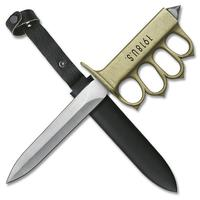knife: (4, 6, 191, 195)
